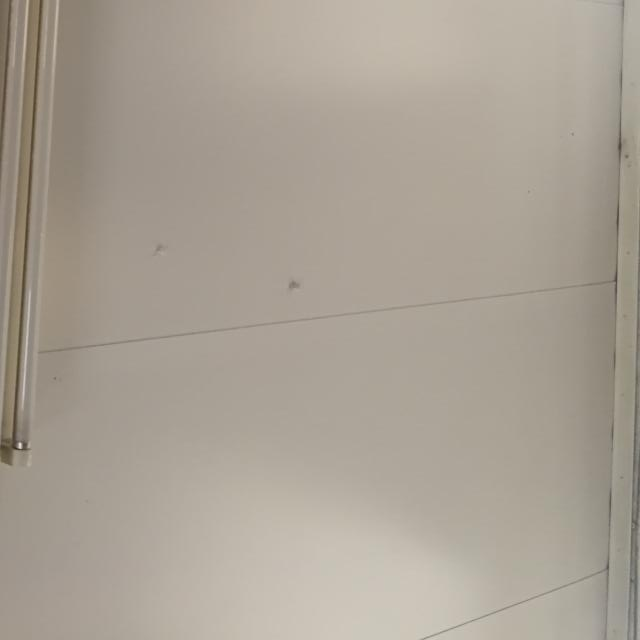fluorescent tube: (0, 0, 134, 484)
